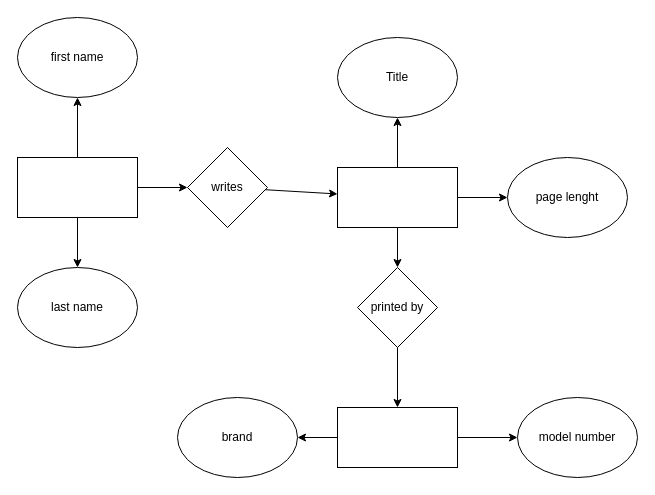
This 655x495 diagram has some shape labels left out. The box of each missing label's shape, as (x1, y1, x2, y2) in pixels:
author: (16, 156, 138, 218)
books: (336, 166, 458, 228)
printer: (336, 406, 458, 468)
